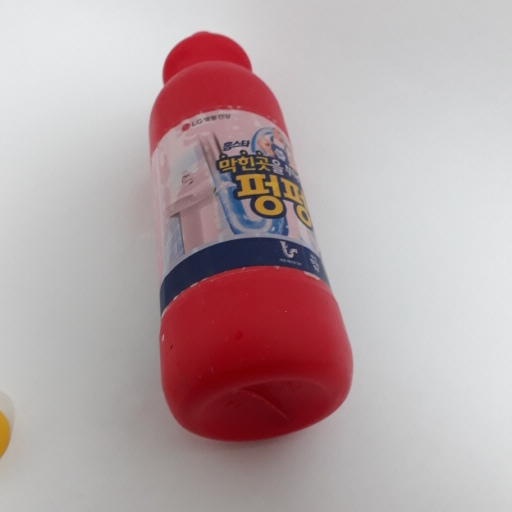Plastic_0: (144, 30, 357, 445)
